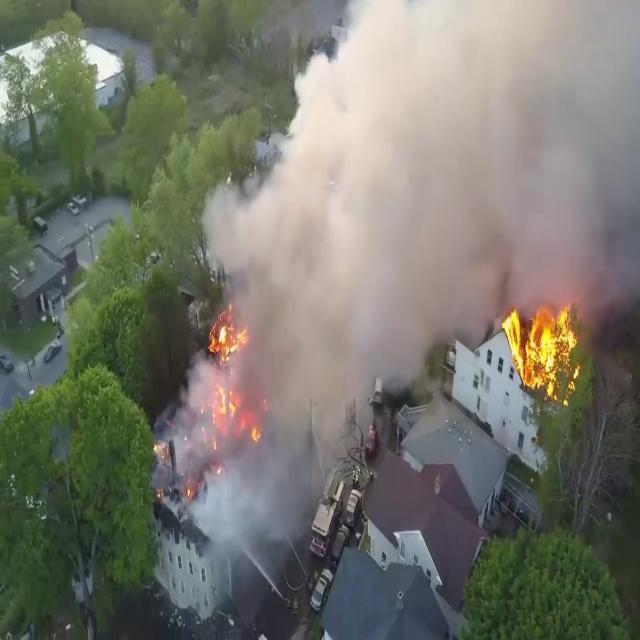Fire: (496, 292, 582, 398), (207, 308, 249, 432)
Smoke: (312, 0, 640, 296), (152, 182, 402, 550)
